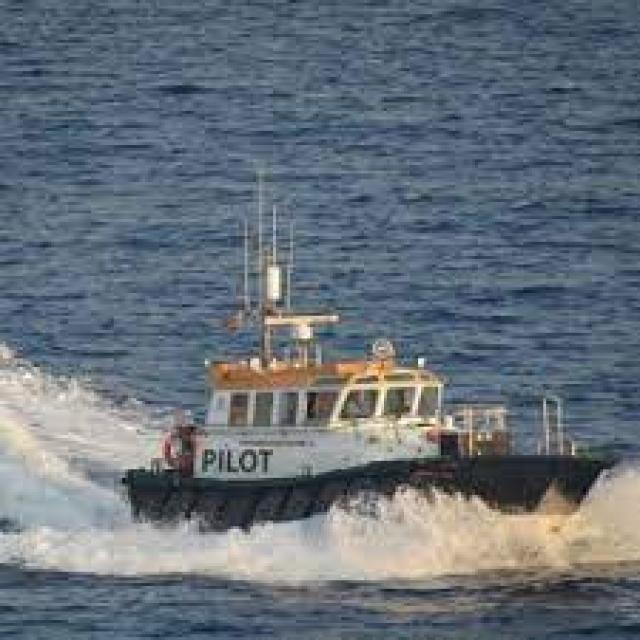houseboat: (122, 198, 601, 542)
